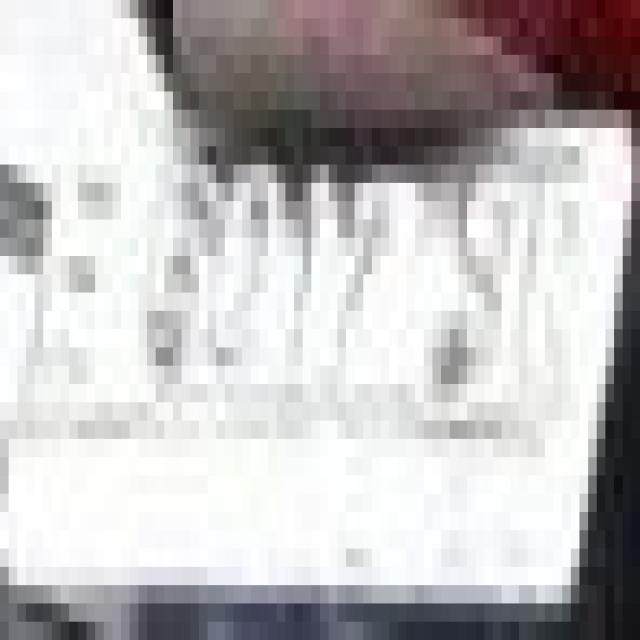plate: (9, 55, 631, 567)
